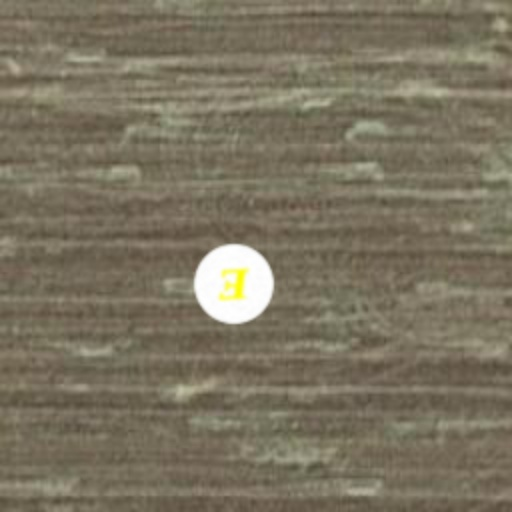circle: (190, 240, 278, 328)
